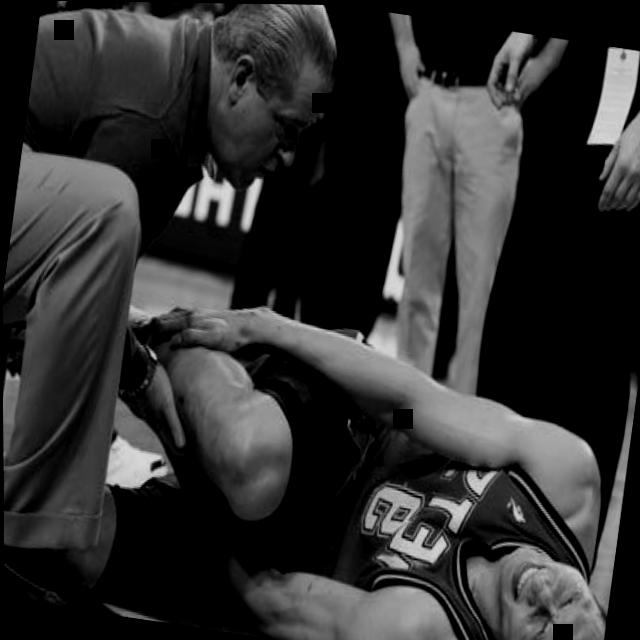Fall-Detected: (1, 256, 640, 640)
